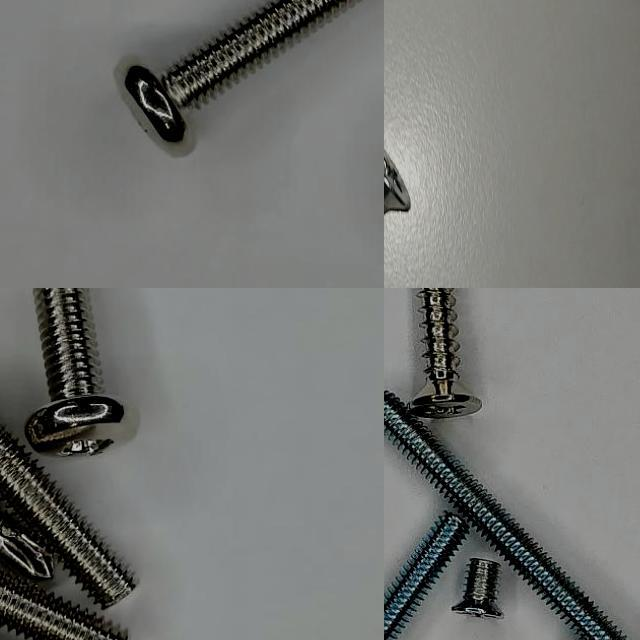Screw: (384, 392, 629, 640), (0, 424, 135, 607), (160, 0, 355, 110), (25, 288, 139, 455), (384, 512, 468, 640), (410, 288, 482, 417), (0, 569, 127, 640), (0, 516, 53, 578), (384, 149, 411, 215), (464, 559, 500, 600)
